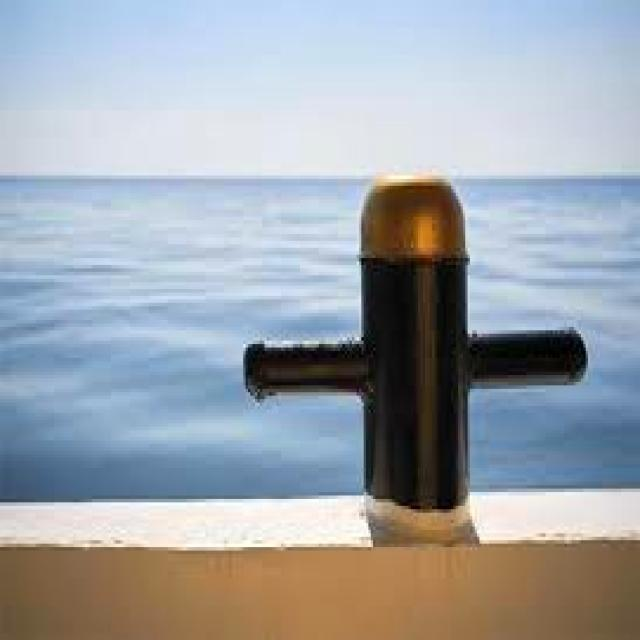bollard: (233, 157, 591, 537)
